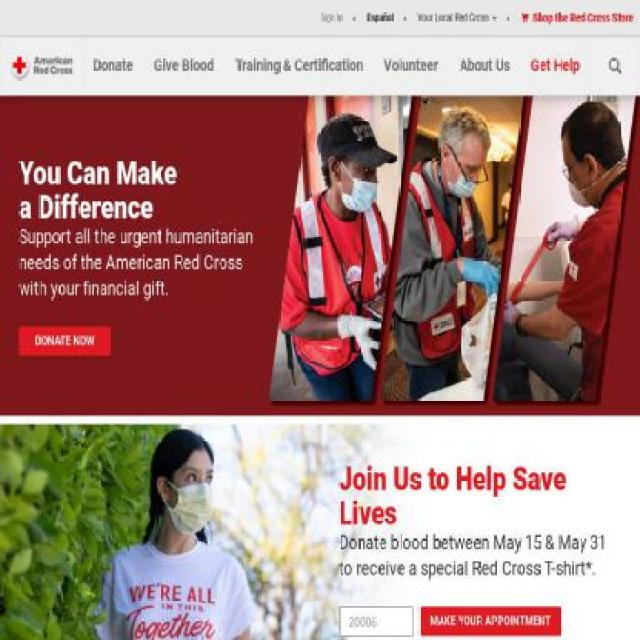button: (234, 37, 363, 94), (0, 37, 83, 95), (419, 607, 561, 636), (154, 37, 214, 94), (384, 37, 439, 94), (458, 37, 511, 94), (531, 37, 580, 94), (18, 327, 111, 356), (93, 37, 133, 94), (519, 14, 635, 21), (416, 14, 498, 21), (366, 14, 394, 21), (319, 14, 343, 21)
field: (338, 606, 414, 637)
